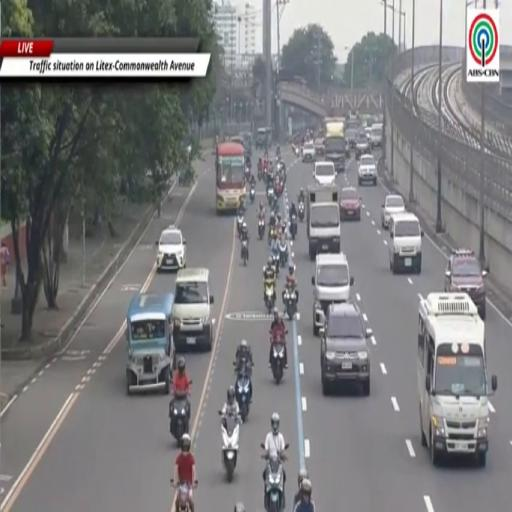bus: (418, 293, 497, 466), (216, 141, 246, 213)
car: (320, 302, 372, 395), (173, 268, 214, 351), (445, 249, 487, 319), (156, 226, 186, 273), (381, 195, 405, 229), (340, 187, 362, 220), (358, 155, 377, 185), (313, 162, 336, 185), (355, 134, 371, 159), (370, 123, 383, 149), (302, 142, 315, 162), (314, 138, 324, 155), (364, 126, 371, 143)
jeepney: (127, 294, 175, 394)
motorcycle: (262, 454, 284, 511), (222, 414, 239, 482), (236, 359, 251, 422), (270, 331, 287, 383), (170, 395, 189, 441), (171, 479, 190, 511), (283, 285, 296, 319), (265, 280, 275, 313), (279, 240, 288, 267), (289, 215, 297, 239), (272, 253, 279, 277), (242, 240, 248, 266), (237, 215, 244, 237), (258, 219, 265, 240), (268, 226, 276, 244), (271, 198, 279, 215), (274, 182, 282, 198), (267, 187, 274, 205), (298, 201, 304, 221), (250, 186, 256, 204), (258, 160, 263, 181), (245, 167, 250, 182), (294, 147, 300, 156)
truck: (306, 185, 340, 261), (325, 120, 346, 172)
